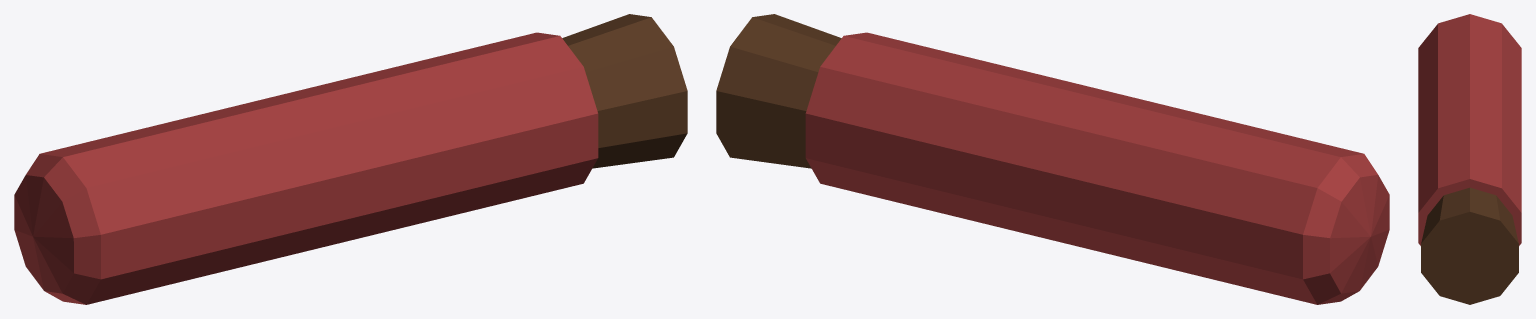
The model's file is MinorPotion.glb.
3 views of the same model, side by side, from view 1: azimuth 30°, elevation 25°; view 2: azimuth 150°, elevation 25°; view 3: azimuth 270°, elevation 25° (orthographic). The views are drawn at different scales.
Parts seen in each view (by area): view 1: Potion, Plug; view 2: Potion, Plug; view 3: Potion, Plug.
Part boxes in pixels (box(x1,y1,x2,y2)): Potion: box(14, 32, 598, 304); Plug: box(562, 14, 687, 168); Potion: box(805, 32, 1389, 304); Plug: box(716, 14, 841, 168); Potion: box(1418, 14, 1521, 245); Plug: box(1421, 187, 1518, 304).
Size of the model in its own units: 0.2756 by 0.0615 by 0.0585.
